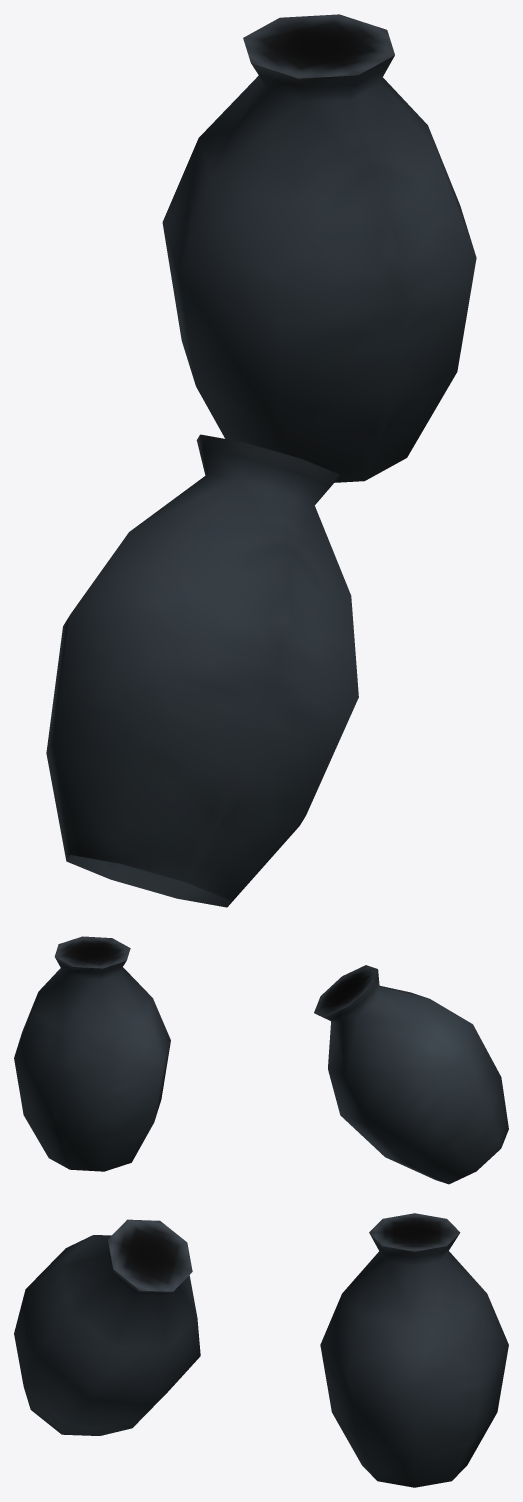
The model's file is Area05_2.fbx.
3 views of the same model, one above another, from view 1: azimuth 30°, elevation 25°; view 2: azimuth 150°, elevation 25°; view 3: azimuth 270°, elevation 25° (orthographic). The views are drawn at different scales.
Visible parts, largest first — view 1: Area05_2; view 2: Area05_2; view 3: Area05_2.
Boxes of the visible parts, box(x1,y1,x2,y2) form: Area05_2: box(46, 14, 476, 907); Area05_2: box(14, 936, 508, 1184); Area05_2: box(14, 1213, 508, 1487).
Size of the model in its own units: 135 by 106 by 148.
